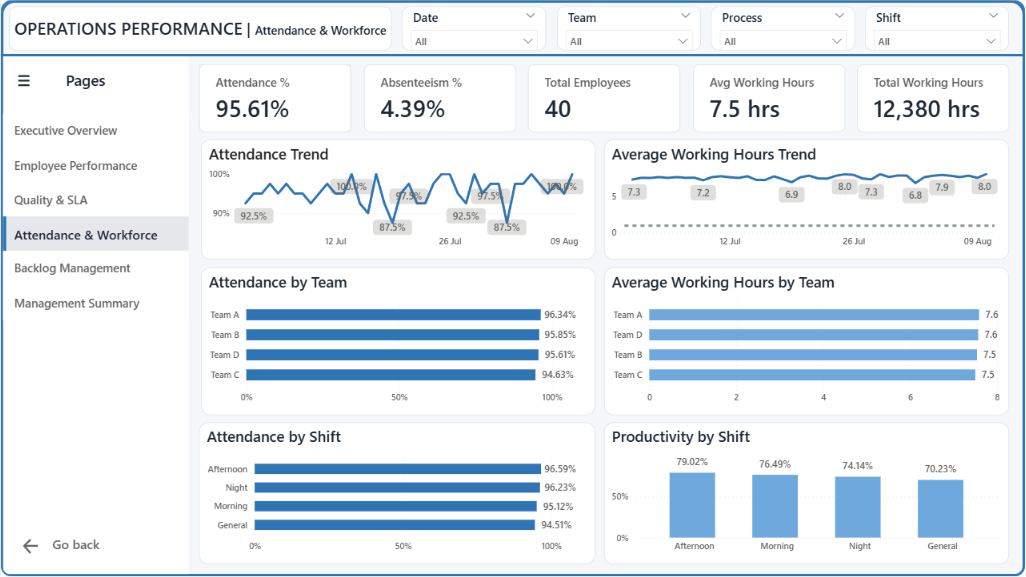

This screenshot's page, from the dashboard's own definition file:
{"tool":"powerbi","page":{"name":"Attendance & Workforce ","canvas":[1280,720],"ordinal":3},"visuals":[{"type":"shape","box":[0,0,1280,720],"z":0},{"type":"shape","box":[0,0,1280,70],"z":1000},{"type":"textbox","box":[10,7.5,478.8,55],"z":2000},{"type":"cardVisual","fields":{"Data":["Measure.Total Working Hours"]},"box":[1070,80,190,85],"z":3000},{"type":"shape","box":[2,70,232,647.5],"z":4000},{"type":"cardVisual","fields":{"Data":["Measure.Avg Working Hours"]},"box":[864.4,80,190,85],"z":5000},{"type":"cardVisual","fields":{"Data":["Measure.Attendance %"]},"box":[247.5,80,190,85],"z":6000},{"type":"cardVisual","fields":{"Data":["Measure.Absenteeism %"]},"box":[453.1,80,190,85],"z":7000},{"type":"slicer","fields":{"Values":["DateTable.Date"]},"box":[501.6,7.5,180,55],"z":8000},{"type":"slicer","fields":{"Values":["dim_team.Team"]},"box":[694.4,7.5,180,55],"z":9000},{"type":"slicer","fields":{"Values":["dim_process.Process"]},"box":[887.2,7.5,180,55],"z":10000},{"type":"slicer","fields":{"Values":["dim_shift.Shift"]},"box":[1080,7.5,180,55],"z":11000},{"type":"pageNavigator","box":[2,141.2,232.5,261.2],"z":12000},{"type":"actionButton","box":[24,669,37.5,27.5],"z":13000},{"type":"textbox","box":[51.2,663.8,85,41.2],"z":14000},{"type":"textbox","box":[10,82,167.5,41.2],"z":15000},{"type":"textbox","box":[422.5,471.2,91.2,30],"z":16000},{"type":"cardVisual","fields":{"Data":["Count(dim_employee.Employee ID)"]},"box":[658.8,80,190,85],"z":17000},{"type":"lineChart","title":"Attendance Trend","fields":{"Category":["DateTable.Date.Variation.Date Hierarchy.Year","DateTable.Date.Variation.Date Hierarchy.Quarter","DateTable.Date.Variation.Date Hierarchy.Month","DateTable.Date.Variation.Date Hierarchy.Day"],"Y":["Measure.Attendance %"]},"box":[250,173.8,492.5,150],"z":18000},{"type":"lineChart","title":"Average Working Hours Trend","fields":{"Category":["DateTable.Date.Variation.Date Hierarchy.Year","DateTable.Date.Variation.Date Hierarchy.Quarter","DateTable.Date.Variation.Date Hierarchy.Month","DateTable.Date.Variation.Date Hierarchy.Day"],"Y":["Measure.Avg Working Hours"]},"box":[753.8,173.8,506.2,150],"z":19000},{"type":"clusteredBarChart","title":"Attendance by Team","fields":{"Category":["dim_team.Team"],"Y":["Measure.Attendance %"]},"box":[250,333.8,492.5,185],"z":21000},{"type":"clusteredBarChart","title":"Average Working Hours by Team","fields":{"Category":["dim_team.Team"],"Y":["Measure.Avg Working Hours"]},"box":[753.8,333.8,506.2,185],"z":23000},{"type":"clusteredBarChart","title":"Attendance by Shift","fields":{"Category":["dim_shift.Shift"],"Y":["Measure.Attendance %"]},"box":[247.5,527.5,495,177.5],"z":25000},{"type":"clusteredColumnChart","title":"Productivity by Shift","fields":{"Category":["dim_shift.Shift"],"Y":["Measure.Productivity %"]},"box":[753.8,527.5,506.2,177.5],"z":26000}]}

Visuals, with their boxes in screenshot pixels (x1, y1, x2, y2), scaled from the page's 1280x720 canvas onto the 1026x577 screenshot:
shape: BBox(0, 0, 1025, 576)
shape: BBox(0, 0, 1025, 56)
textbox: BBox(8, 6, 392, 50)
cardVisual - Measure.Total Working Hours: BBox(858, 64, 1010, 132)
shape: BBox(2, 56, 188, 575)
cardVisual - Measure.Avg Working Hours: BBox(693, 64, 845, 132)
cardVisual - Measure.Attendance %: BBox(198, 64, 351, 132)
cardVisual - Measure.Absenteeism %: BBox(363, 64, 515, 132)
slicer - DateTable.Date: BBox(402, 6, 546, 50)
slicer - dim_team.Team: BBox(557, 6, 701, 50)
slicer - dim_process.Process: BBox(711, 6, 855, 50)
slicer - dim_shift.Shift: BBox(866, 6, 1010, 50)
pageNavigator: BBox(2, 113, 188, 322)
actionButton: BBox(19, 536, 49, 558)
textbox: BBox(41, 532, 109, 565)
textbox: BBox(8, 66, 142, 99)
textbox: BBox(339, 378, 412, 402)
cardVisual - Count(dim_employee.Employee ID): BBox(528, 64, 680, 132)
"Attendance Trend" lineChart: BBox(200, 139, 595, 259)
"Average Working Hours Trend" lineChart: BBox(604, 139, 1010, 259)
"Attendance by Team" clusteredBarChart: BBox(200, 268, 595, 416)
"Average Working Hours by Team" clusteredBarChart: BBox(604, 268, 1010, 416)
"Attendance by Shift" clusteredBarChart: BBox(198, 423, 595, 565)
"Productivity by Shift" clusteredColumnChart: BBox(604, 423, 1010, 565)
